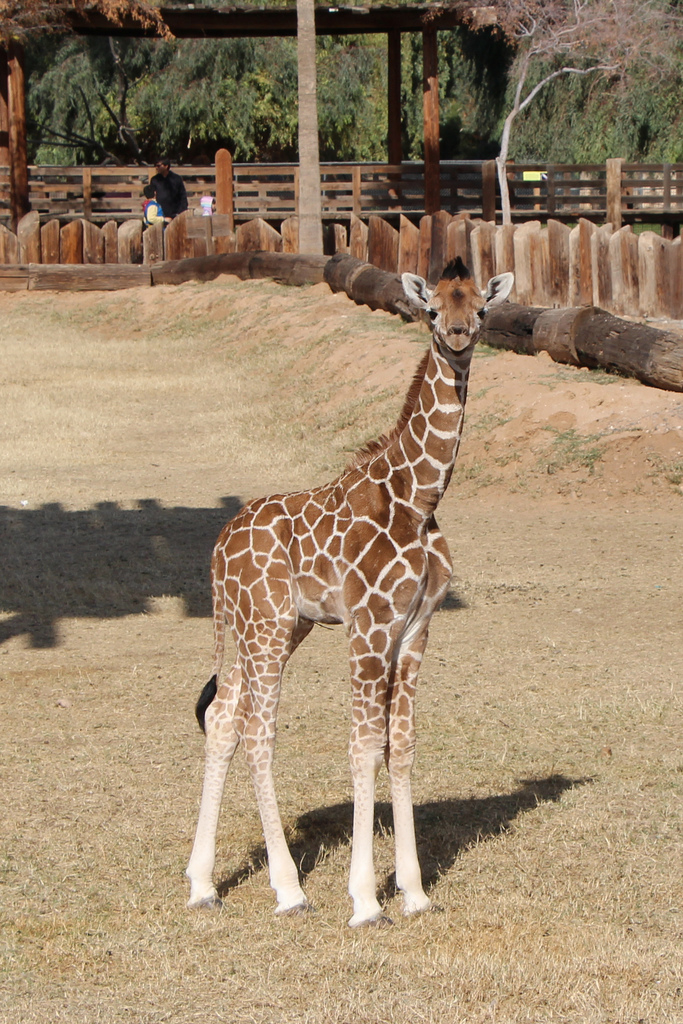giraffe: (170, 237, 548, 940)
